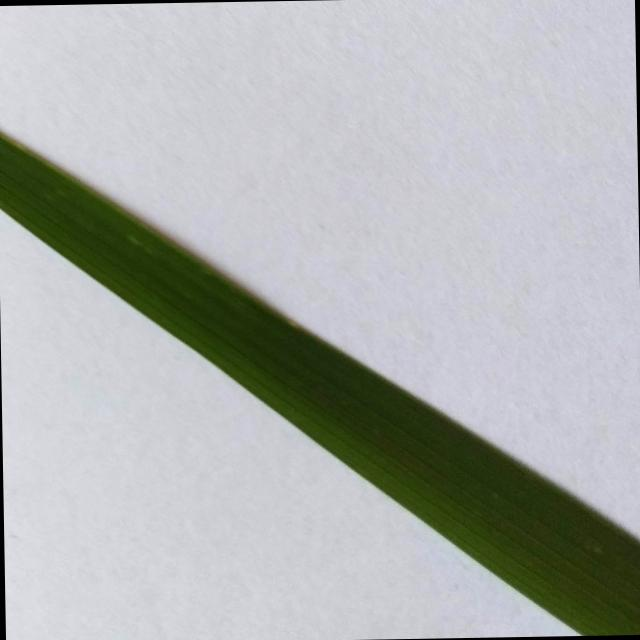Rice_Healthy: (0, 131, 640, 635)
